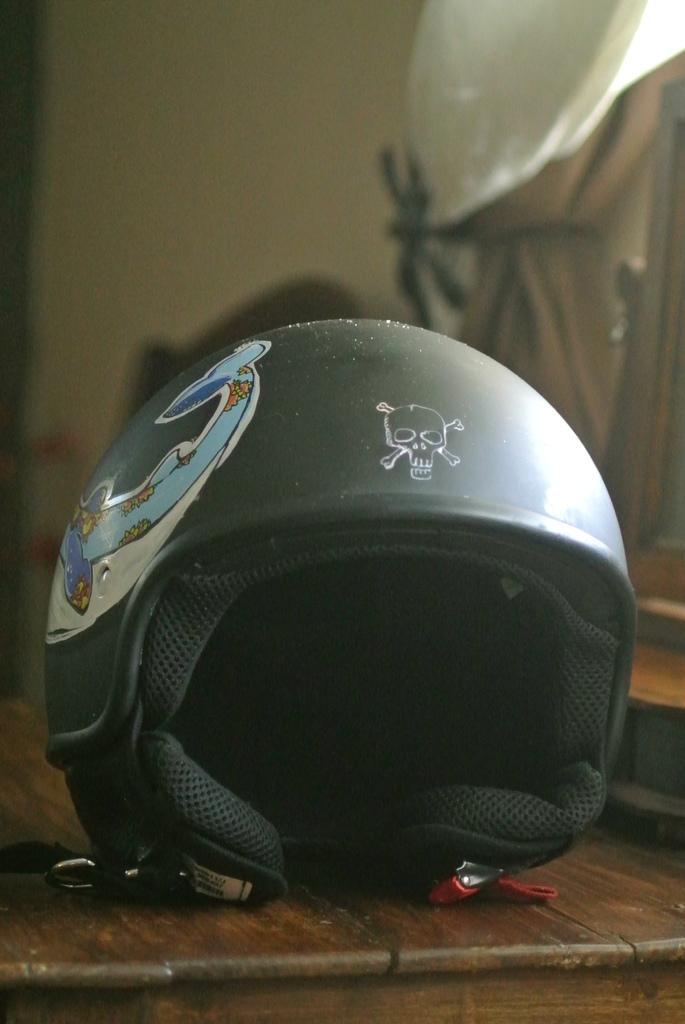helmet: (43, 317, 639, 903)
